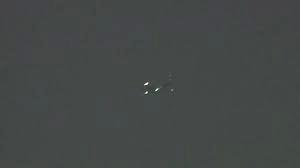Plane: (138, 69, 187, 100)
